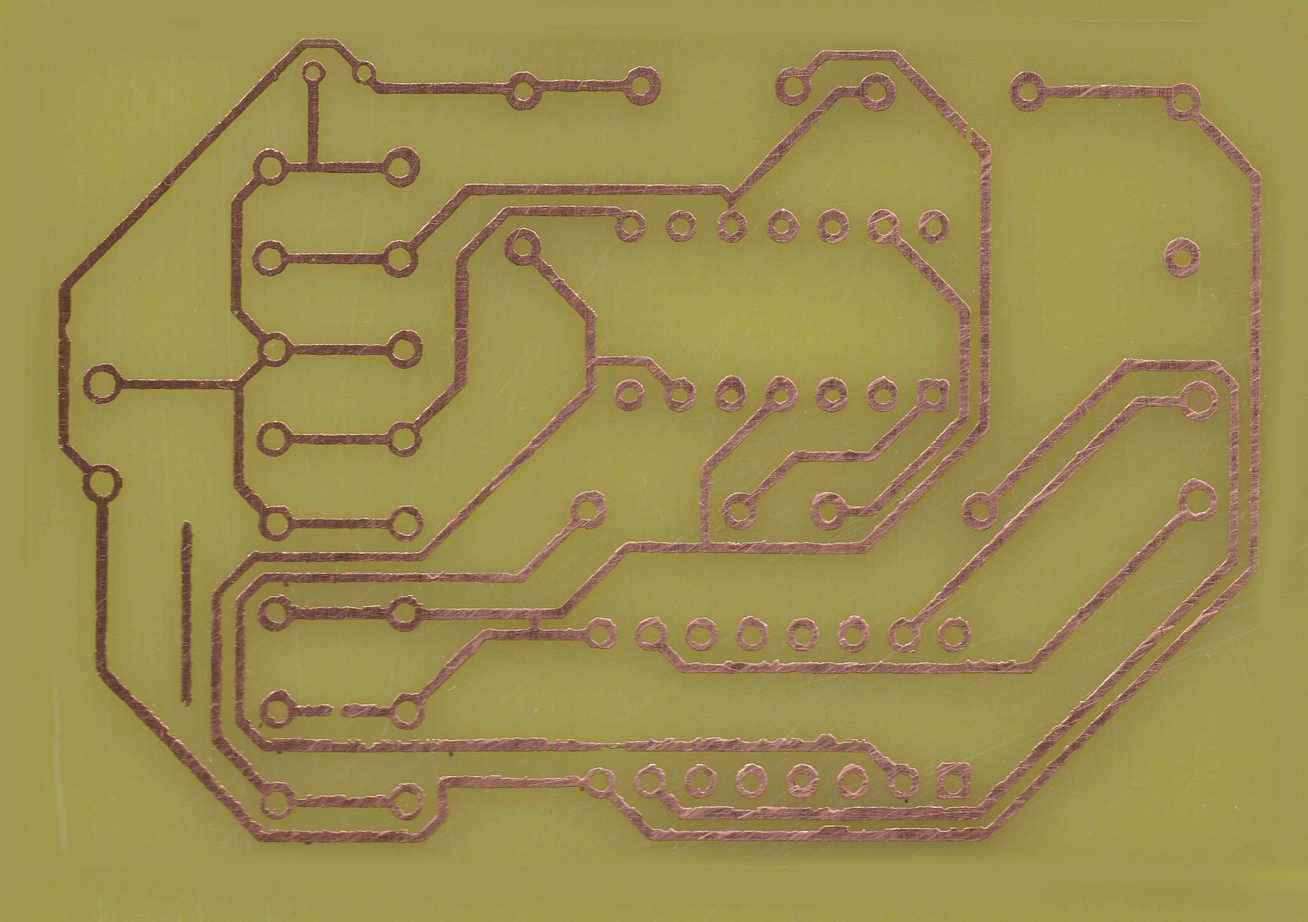mouse_bite: (53, 309, 77, 344), (355, 734, 385, 756)
open_circuit: (319, 699, 352, 720)
short: (521, 604, 545, 641)
spur: (816, 822, 854, 845), (813, 729, 843, 753)
spurious_copper: (170, 509, 198, 711)
